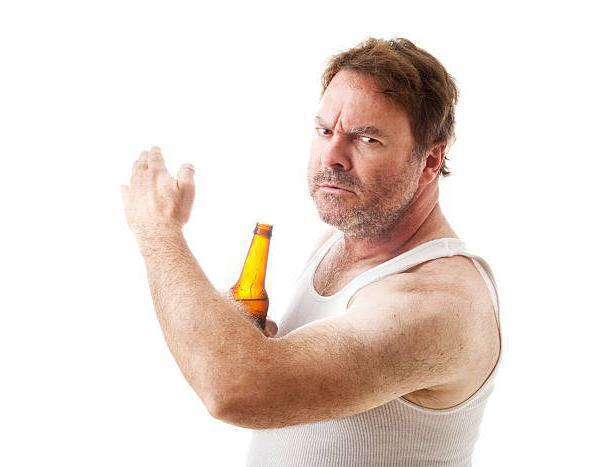Drunk: (305, 87, 407, 223)
